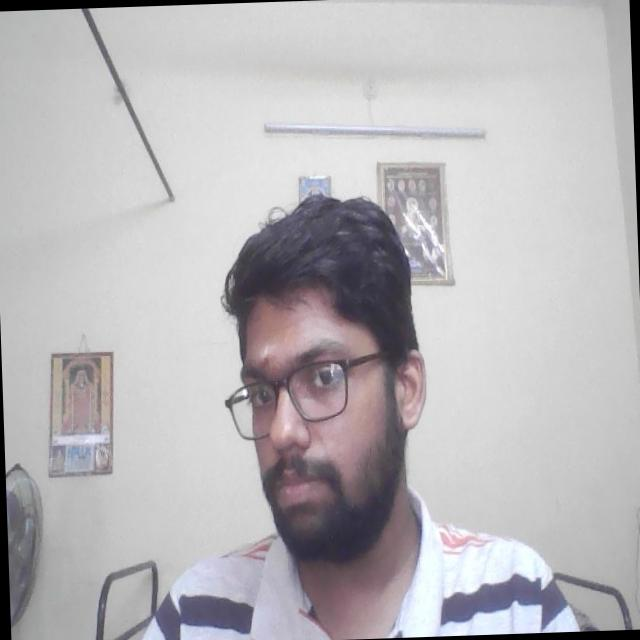Focused: (222, 292, 400, 524)
